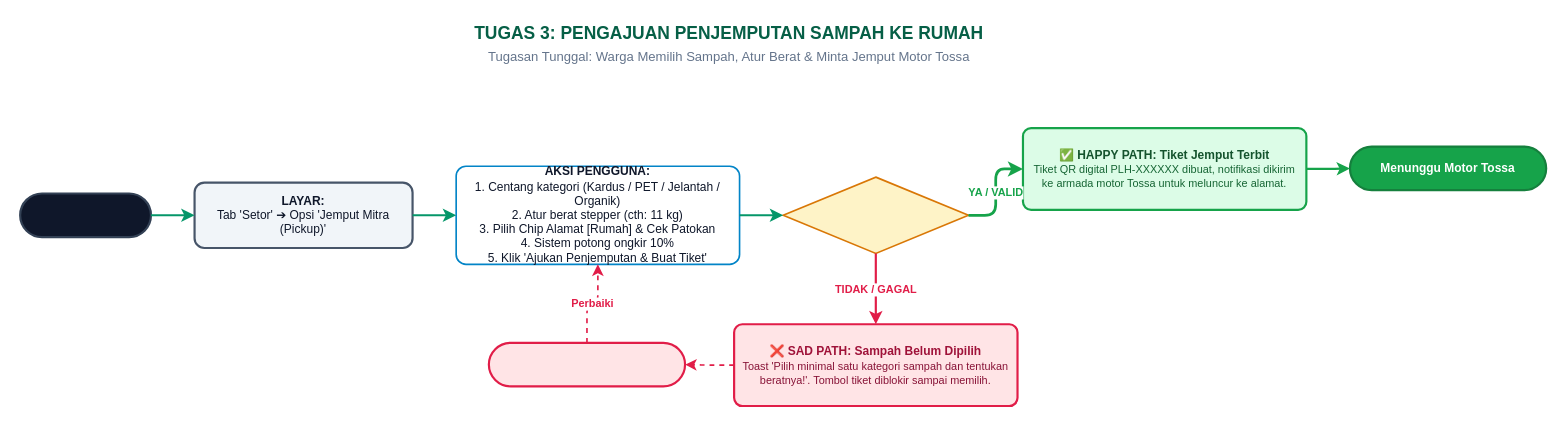
Image size: 1565x425. Some labels were removed from this diagram. Here are the shapes that lost their labels. From the top down, the box of each, then its label:
(19, 192, 152, 238): MULAI TUGAS
(782, 176, 969, 254): Minimal 1 Kategori Terpilih & Alamat Lengkap?
(487, 341, 686, 387): Pilih Kategori Sampah
